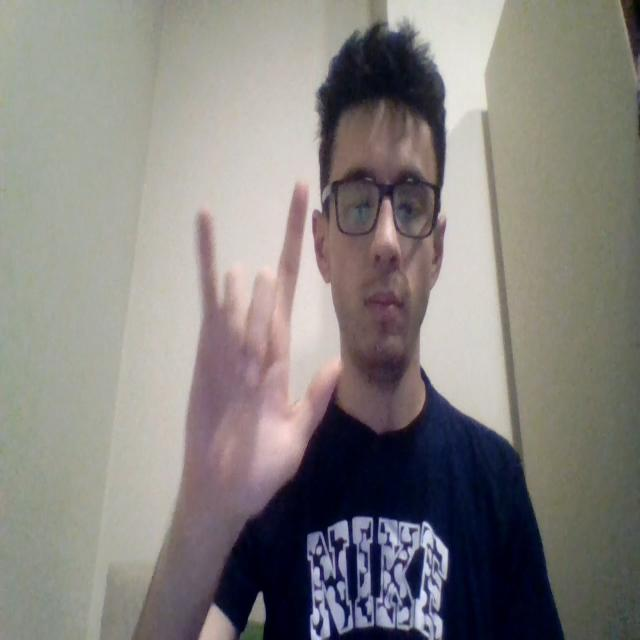iloveyou: (177, 179, 343, 529)
